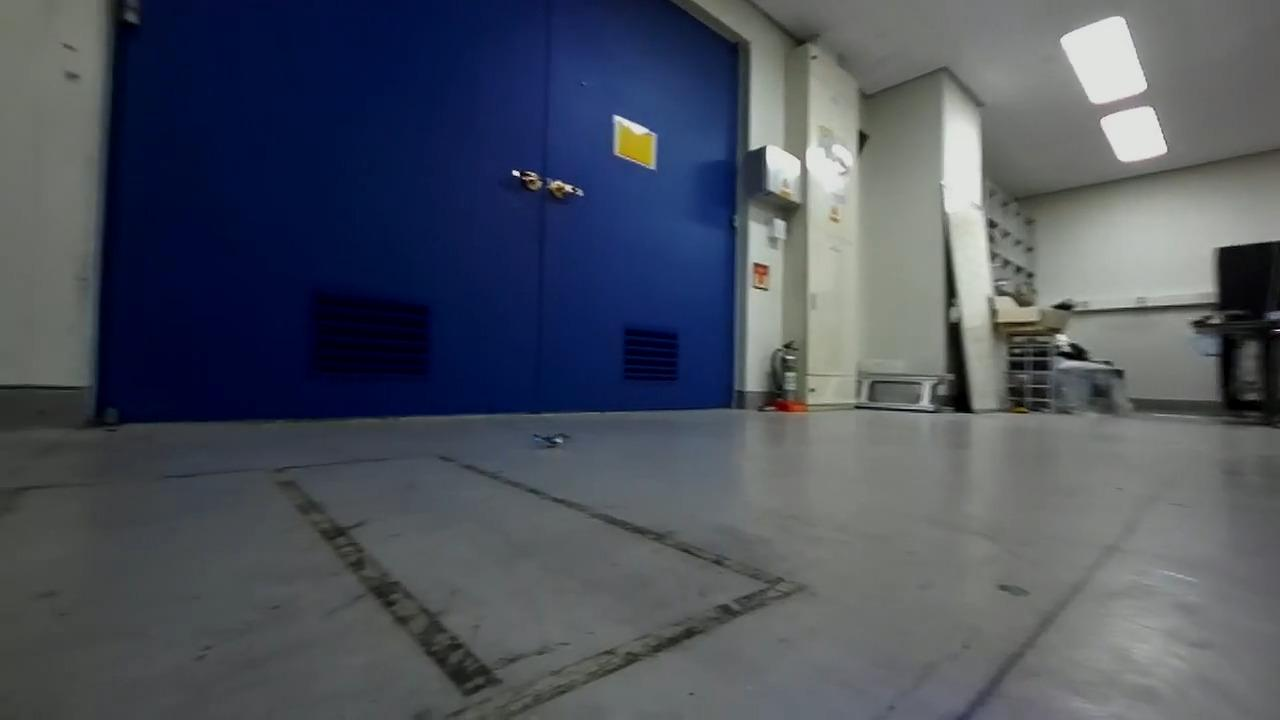crazyflie: (527, 425, 581, 455)
